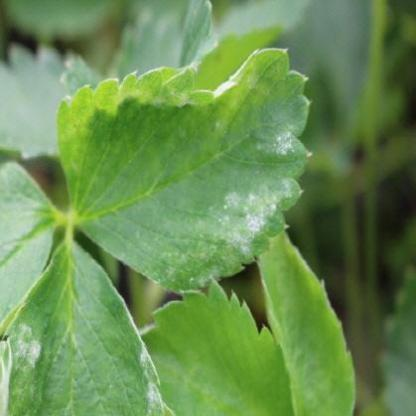Strawberry_Powdery_Mildew_Leaf: (54, 46, 314, 298), (0, 238, 167, 415)
